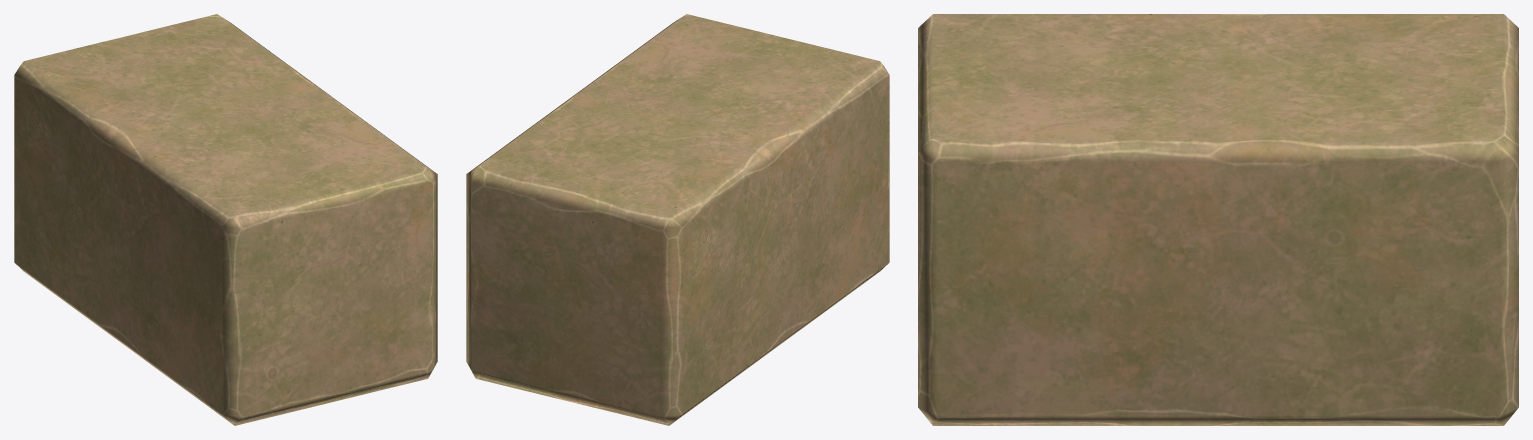
The model's file is SM_Brick_1.fbx.
The picture shows the model from 3 angles, left to right: view 1: azimuth 30°, elevation 25°; view 2: azimuth 150°, elevation 25°; view 3: azimuth 270°, elevation 25°; orthographic projection. The views are drawn at different scales.
Visible parts, largest first — view 1: SM_Brick_1_LOD0; view 2: SM_Brick_1_LOD0; view 3: SM_Brick_1_LOD0.
Part boxes in pixels (x1,y1,x2,y2): SM_Brick_1_LOD0: [14, 14, 437, 425]; SM_Brick_1_LOD0: [466, 14, 889, 425]; SM_Brick_1_LOD0: [918, 14, 1518, 425].
Bounding box in the file's own units: 64.07 × 114 × 59.69.
1 material, 1 textured.
